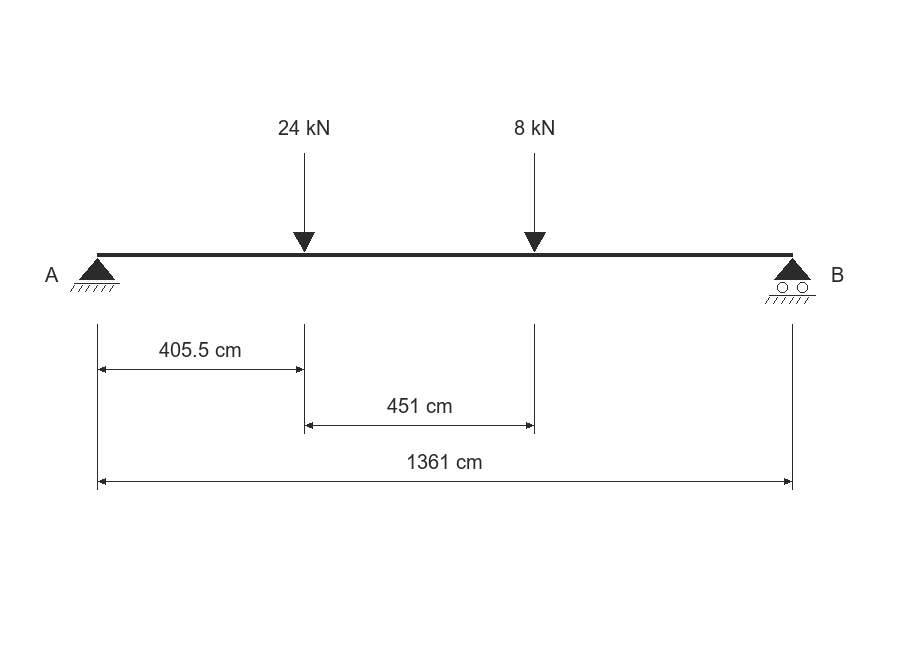pin_support: (70, 258, 120, 292)
point_load: (293, 153, 315, 252), (524, 153, 546, 252)
roller_support: (765, 258, 816, 304)
